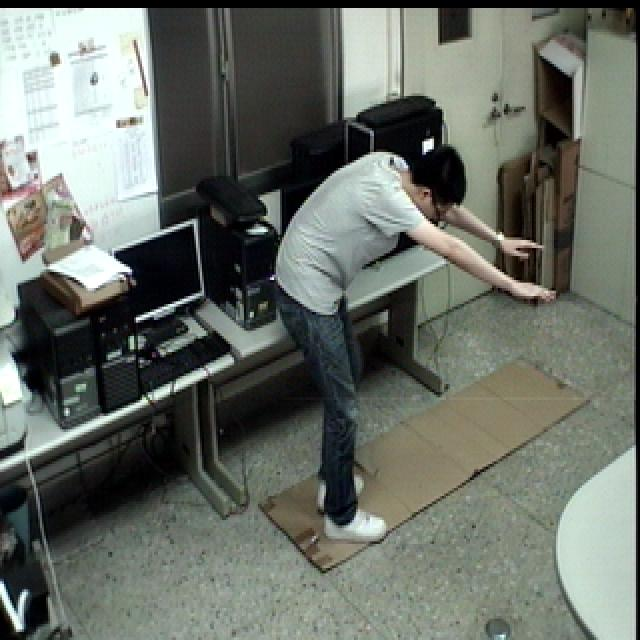bend: (271, 144, 558, 550)
